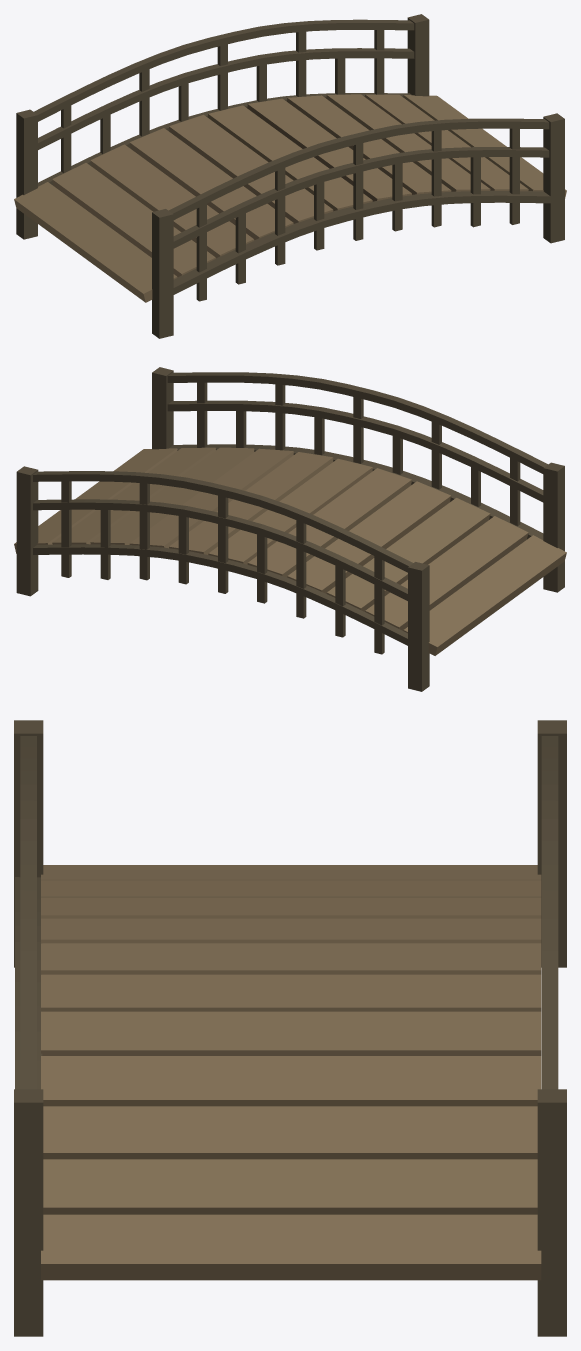
File: Brug2.fbx
The picture shows the model from 3 angles, top to bottom: view 1: azimuth 30°, elevation 25°; view 2: azimuth 150°, elevation 25°; view 3: azimuth 270°, elevation 25°; orthographic projection. The views are drawn at different scales.
Visible parts, largest first — view 1: Cube.034, Cube.001, Cube.013, Cube.018; view 2: Cube.034, Cube.001, Cube.013, Cube.018; view 3: Cube.034, Cube.018, Cube.001.
Boxes of the visible parts, box(x1,y1,x2,y2) form: Cube.034: box(14, 94, 566, 302); Cube.001: box(34, 19, 550, 294); Cube.013: box(61, 30, 519, 301); Cube.018: box(16, 14, 564, 338); Cube.034: box(14, 447, 566, 655); Cube.001: box(33, 372, 547, 645); Cube.013: box(61, 382, 520, 654); Cube.018: box(16, 367, 564, 691); Cube.034: box(41, 865, 541, 1280); Cube.018: box(14, 720, 566, 1336); Cube.001: box(15, 736, 558, 1089).
Size of the model in its own units: 541 by 185 by 317.
